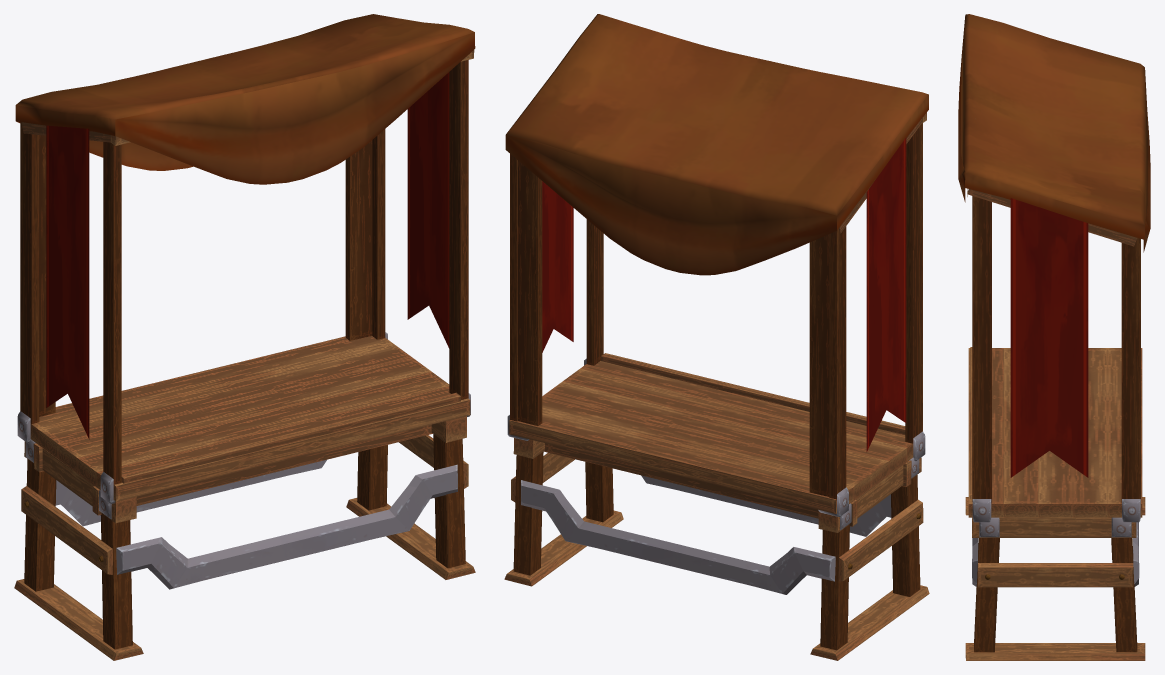
File: Stall_Empty.gltf
3 renders of one model, left to right at view 1: azimuth 30°, elevation 25°; view 2: azimuth 150°, elevation 25°; view 3: azimuth 270°, elevation 25°, orthographic. The views are drawn at different scales.
Visible parts, largest first — view 1: Stall_Empty; view 2: Stall_Empty; view 3: Stall_Empty.
Boxes of the visible parts, x1,y1,x2,y2 form: Stall_Empty: (14,14,475,660); Stall_Empty: (504,14,929,660); Stall_Empty: (958,14,1150,660).
Size of the model in its own units: 1.84 by 2.63 by 0.9323.
Materials: 3 (3 with a texture image).
